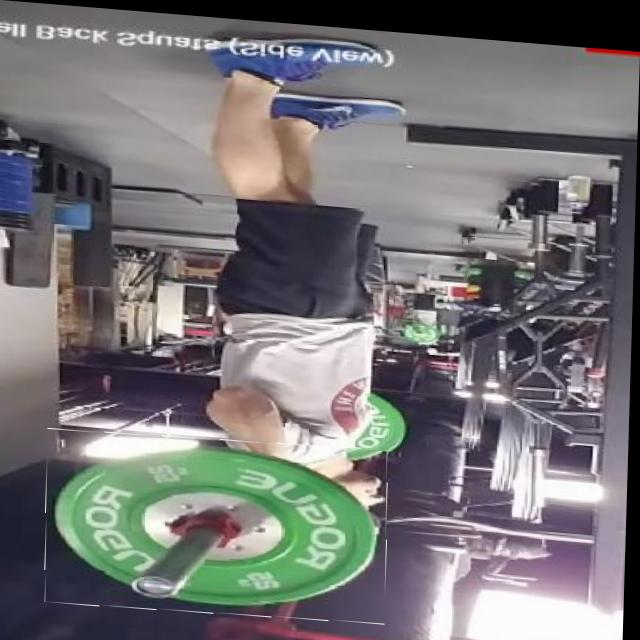barbell: (48, 425, 393, 622)
